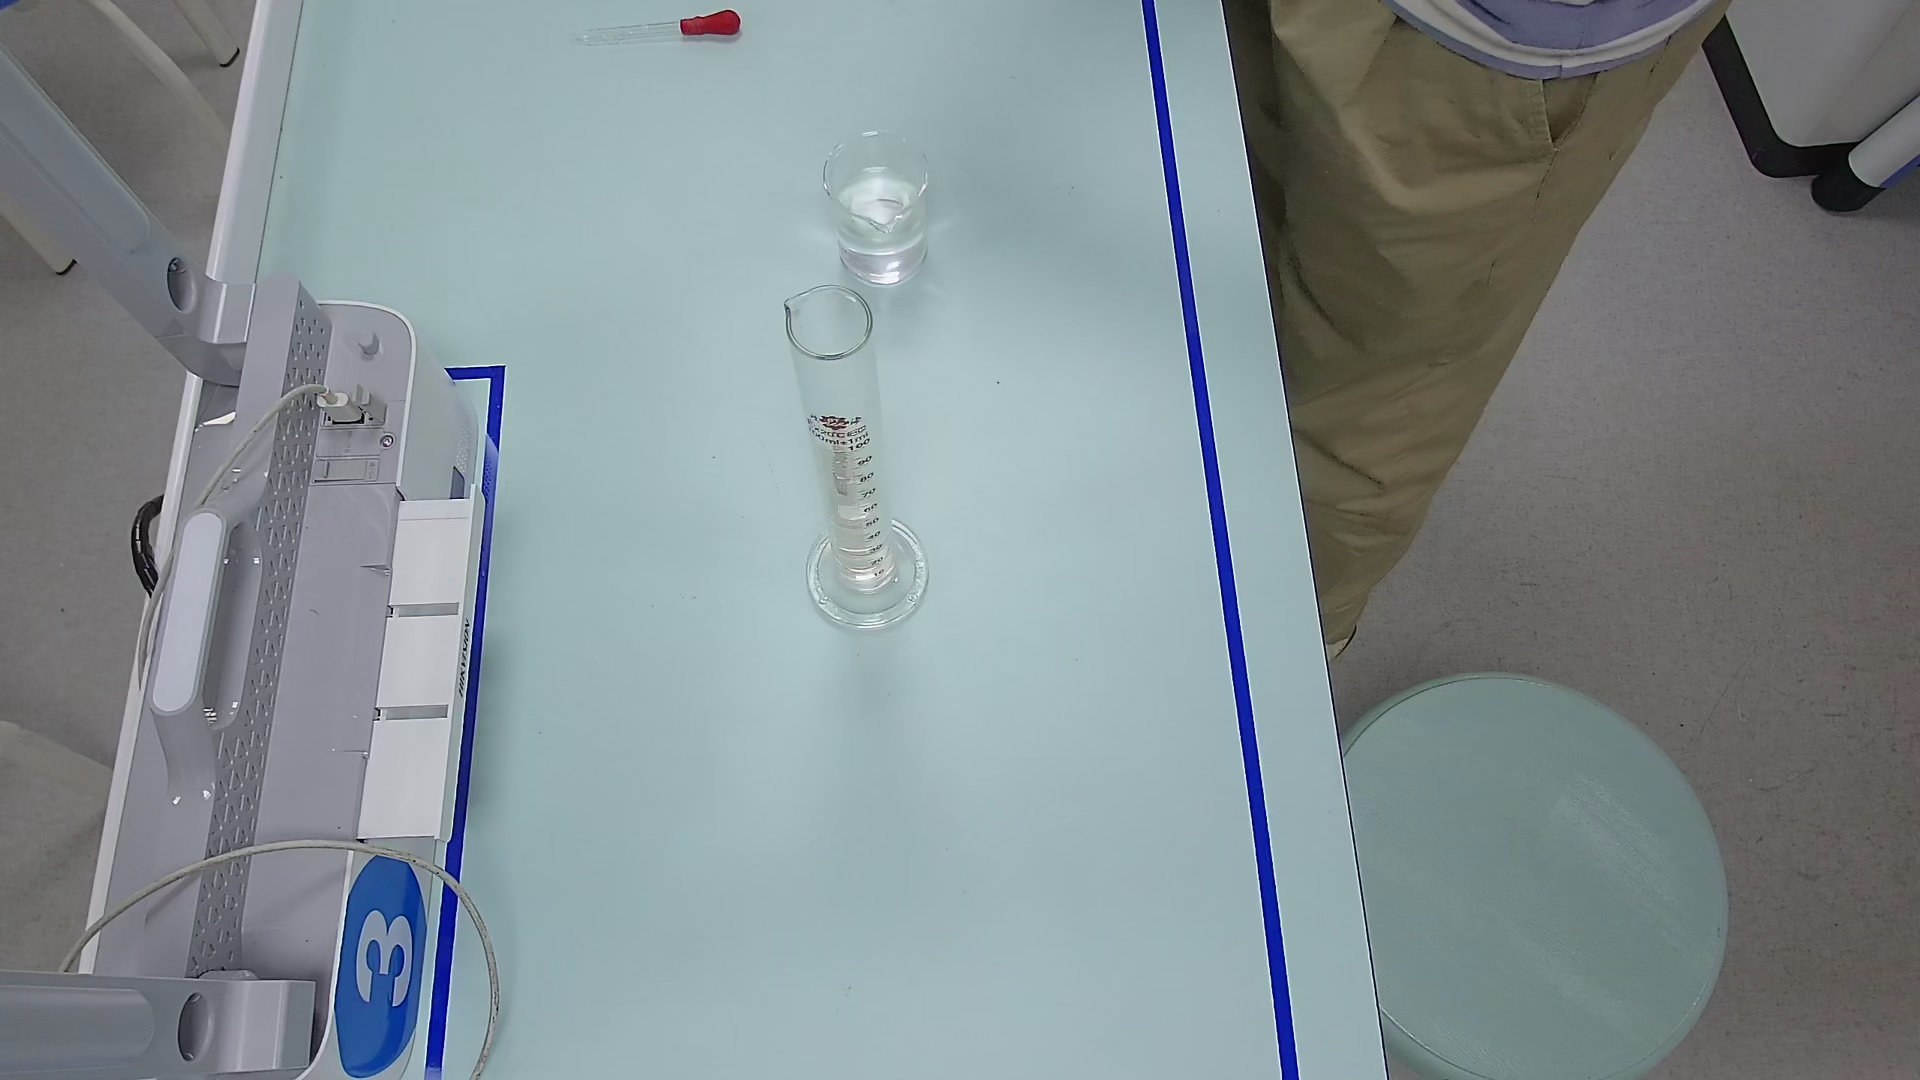ao: (823, 483, 885, 522)
bei: (822, 127, 942, 295)
diguan: (572, 4, 737, 51)
diguantou: (676, 5, 741, 47)
liangdi: (796, 531, 928, 637)
liangtong: (777, 284, 931, 625)
